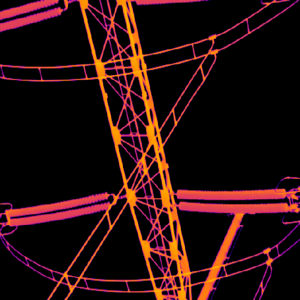insulator: (6, 188, 108, 216), (7, 201, 109, 227), (0, 5, 61, 30), (176, 186, 287, 199), (178, 200, 289, 213), (0, 0, 57, 20)
